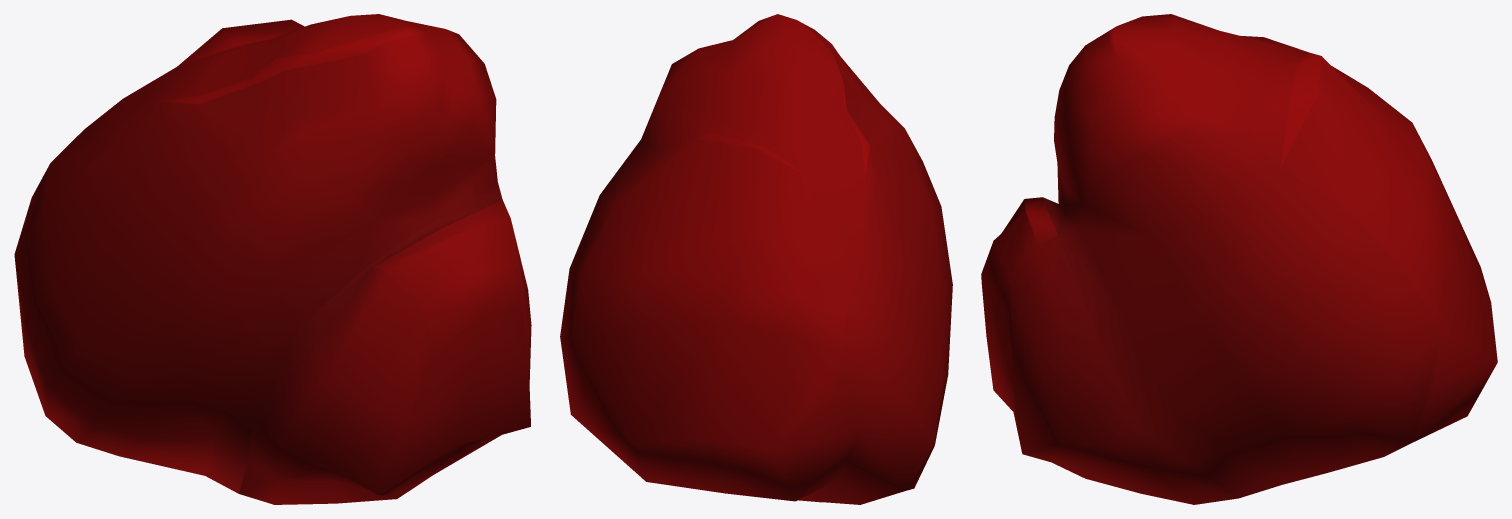
File: geology-rocks-slantedrock_v7.fbx
3 views of the same model, side by side, from view 1: azimuth 30°, elevation 25°; view 2: azimuth 150°, elevation 25°; view 3: azimuth 270°, elevation 25° (orthographic). The views are drawn at different scales.
Parts seen in each view (by area): view 1: SlantedRock_v7; view 2: SlantedRock_v7; view 3: SlantedRock_v7.
Part boxes in pixels (bbox=[...]): SlantedRock_v7: bbox=[14, 14, 531, 504]; SlantedRock_v7: bbox=[560, 14, 952, 504]; SlantedRock_v7: bbox=[981, 14, 1497, 504].
Bounding box in the file's own units: 10.8 × 12.24 × 12.15.
